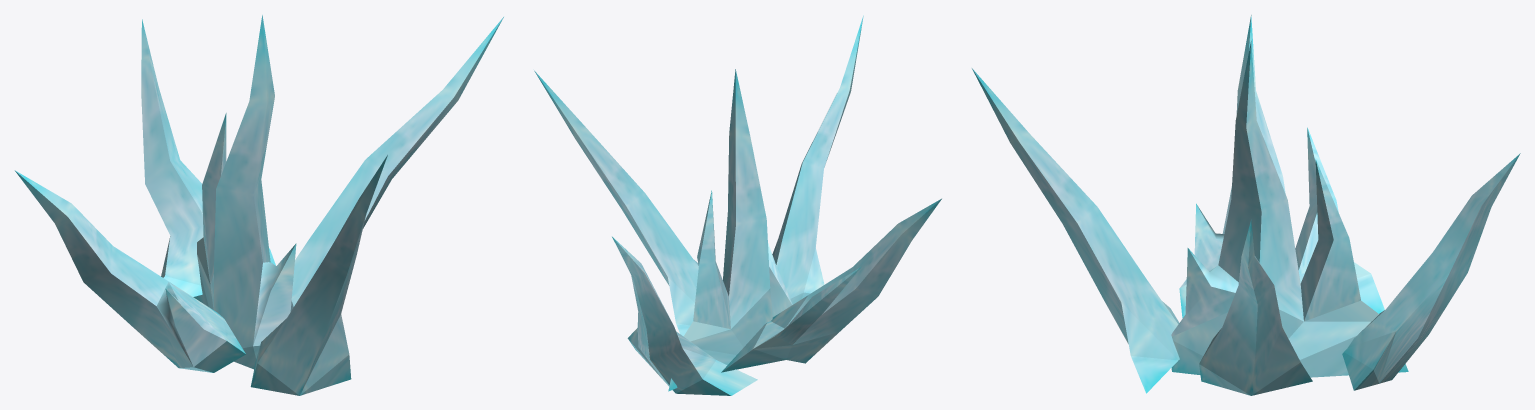
Rendered from bingzhu.fbx.
The picture shows the model from 3 angles, left to right: view 1: azimuth 30°, elevation 25°; view 2: azimuth 150°, elevation 25°; view 3: azimuth 270°, elevation 25°; orthographic projection. The views are drawn at different scales.
Visible parts, largest first — view 1: bingzhu; view 2: bingzhu; view 3: bingzhu.
Boxes of the visible parts, x1=… form: bingzhu: x1=14, y1=15, x2=503, y2=395; bingzhu: x1=534, y1=15, x2=941, y2=395; bingzhu: x1=972, y1=15, x2=1520, y2=395.
Size of the model in its own units: 10.32 by 6.82 by 10.
